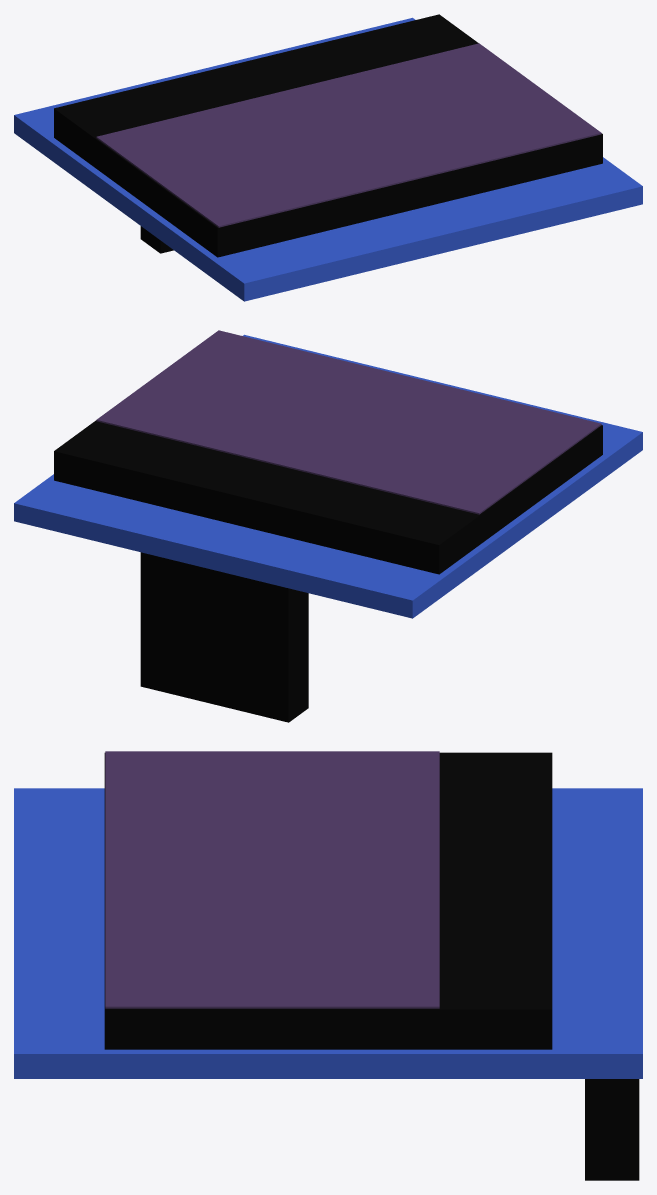
Rendered from OLED.fbx.
The picture shows the model from 3 angles, top to bottom: view 1: azimuth 30°, elevation 25°; view 2: azimuth 150°, elevation 25°; view 3: azimuth 270°, elevation 25°; orthographic projection. The views are drawn at different scales.
Visible parts, largest first — view 1: OLED; view 2: OLED; view 3: OLED.
Part boxes in pixels (bbox=[...]): OLED: bbox=[14, 14, 642, 301]; OLED: bbox=[14, 330, 642, 722]; OLED: bbox=[14, 751, 642, 1180].
Size of the model in its own units: 2770 by 2770 by 1225.
